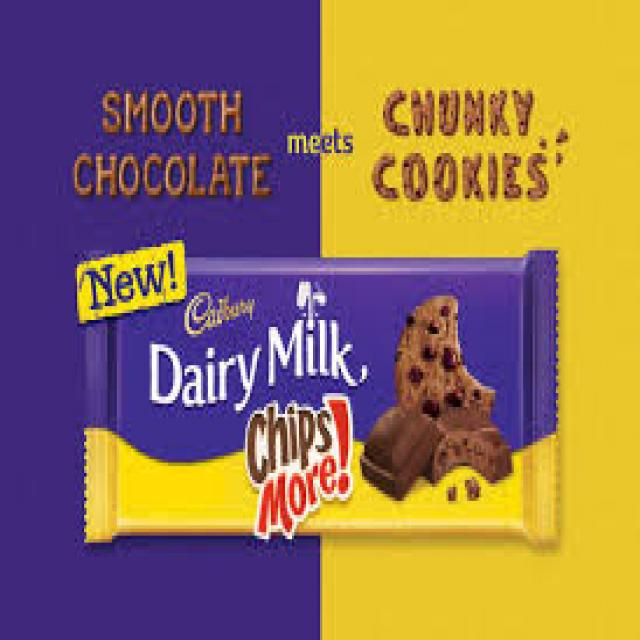cadbury: (48, 226, 594, 563)
